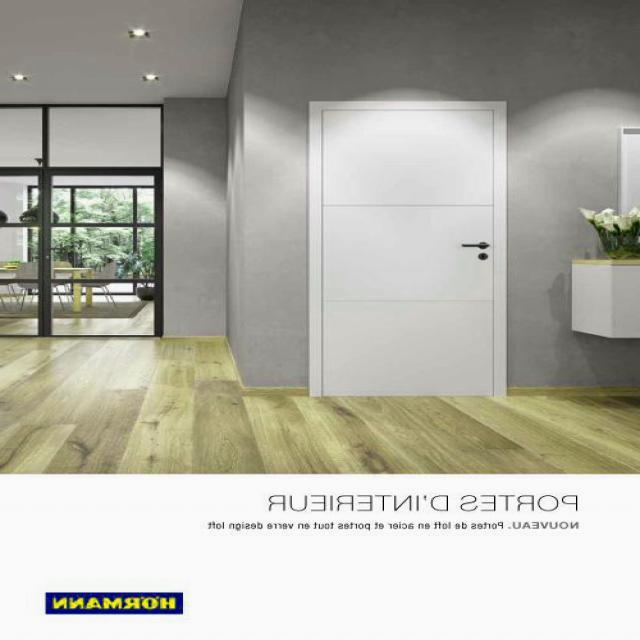door: (295, 92, 521, 411)
